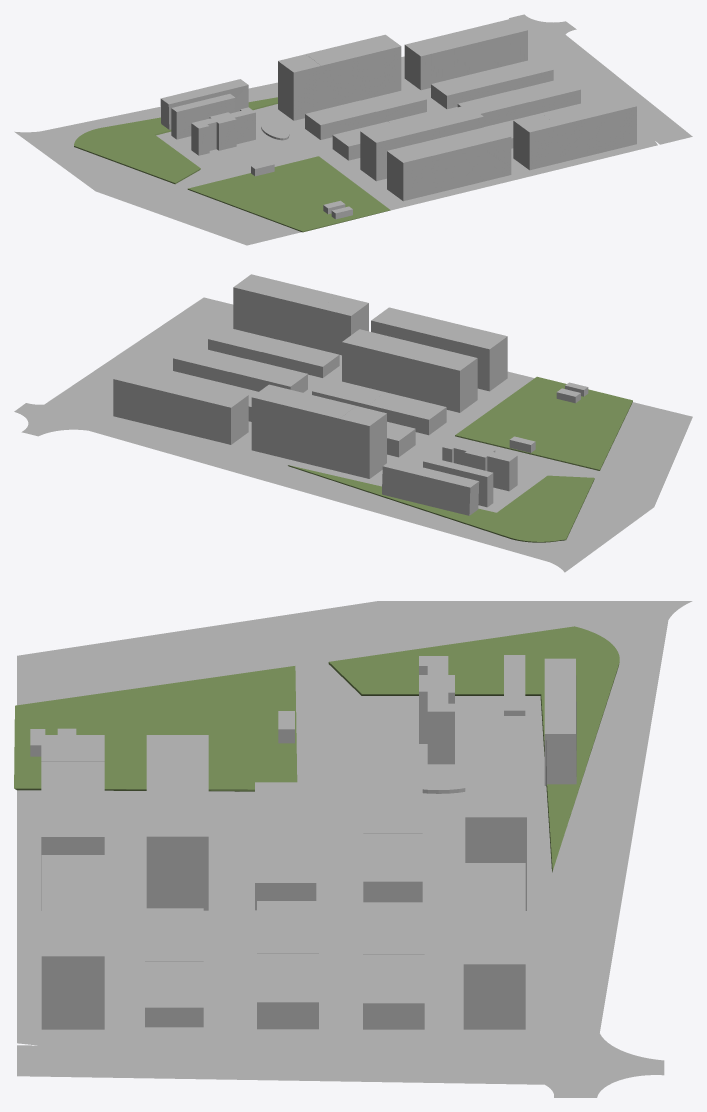
The picture shows the model from 3 angles, top to bottom: view 1: azimuth 30°, elevation 25°; view 2: azimuth 150°, elevation 25°; view 3: azimuth 270°, elevation 25°; orthographic projection. The views are drawn at different scales.
Visible parts, largest first — view 1: Model; view 2: Model; view 3: Model.
Boxes of the visible parts, box(x1,y1,x2,y2) form: Model: box(14, 14, 692, 245); Model: box(14, 274, 692, 572); Model: box(14, 601, 692, 1097).
Bounding box in the file's own units: 41.98 × 3.79 × 24.25.
